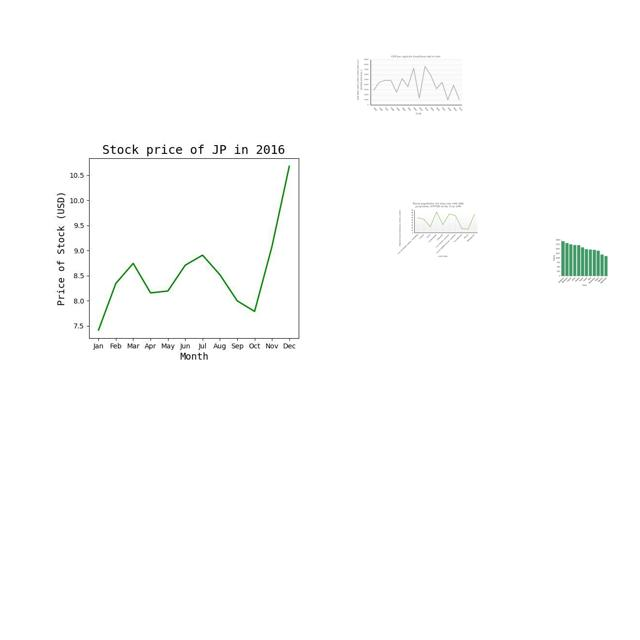Graph: (34, 130, 346, 364), (355, 54, 464, 116), (397, 201, 479, 258), (552, 237, 609, 287)
